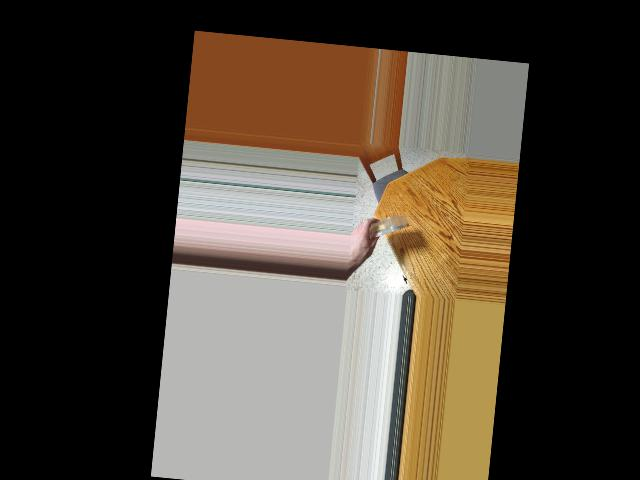cheese: (363, 211, 412, 240)
